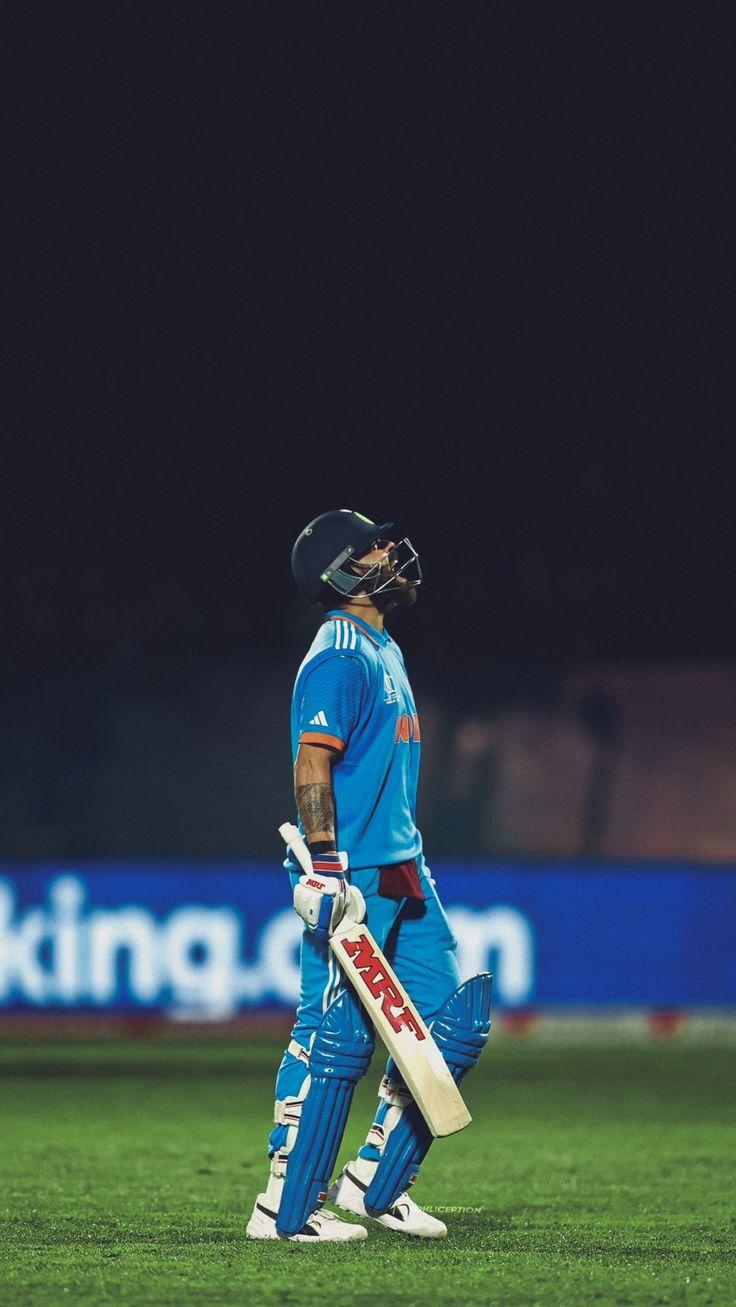batsman: (196, 475, 546, 1239)
